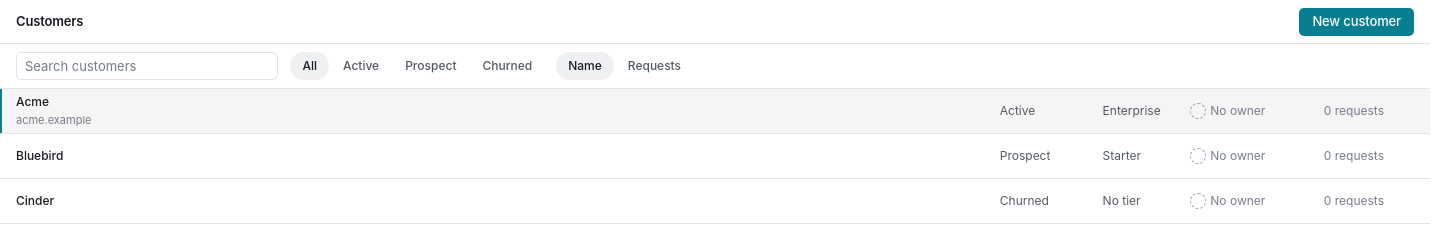
Scenario: Customers controls › says nothing matches rather than that there are no customers
Type "zzz" into the search field labelled "Search customers" at (147, 66), box top-left (25, 53), bottom-right (269, 79)
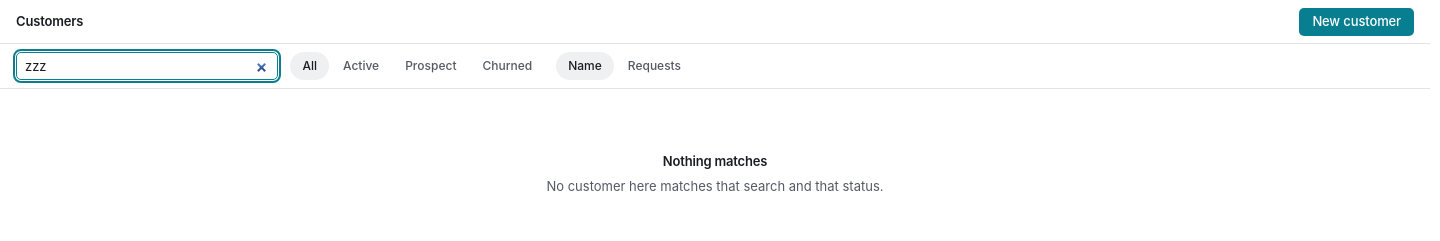
Expected: the text "Nothing matches" is shown, top-left (663, 153), bottom-right (767, 169)
